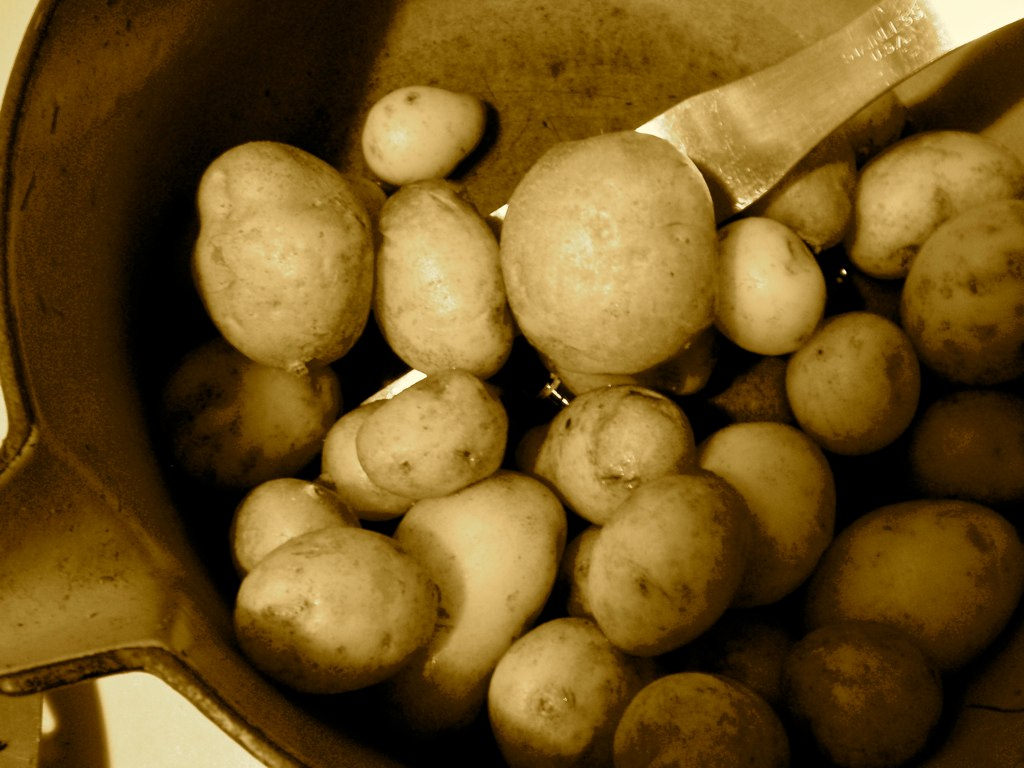boiled potatoes: (185, 77, 1024, 763)
